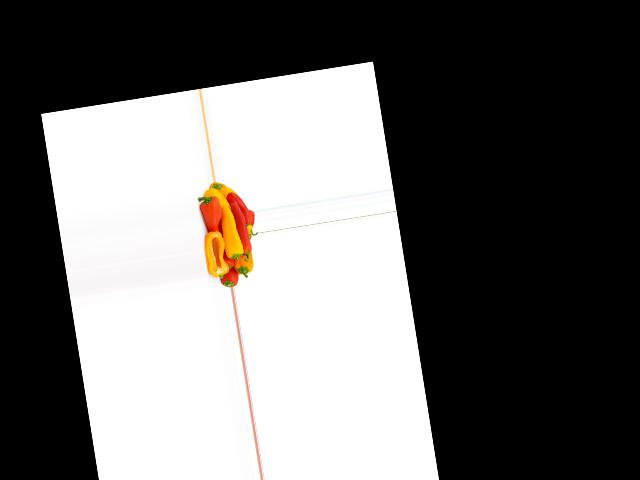bell_pepper: (217, 255, 243, 289)
